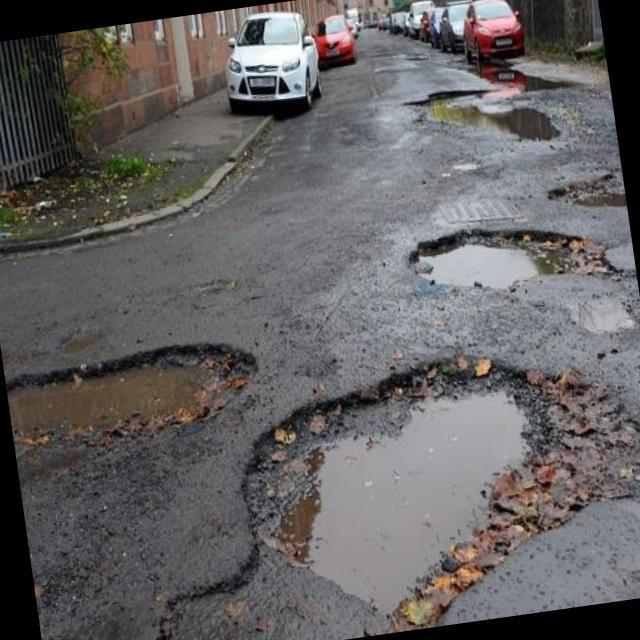Pothole: (152, 350, 640, 640), (7, 346, 256, 489), (414, 232, 614, 295)
